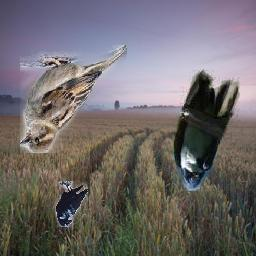Crow: (56, 181, 89, 227)
Sparrow: (21, 45, 128, 153)
Swallow: (170, 65, 240, 191)
